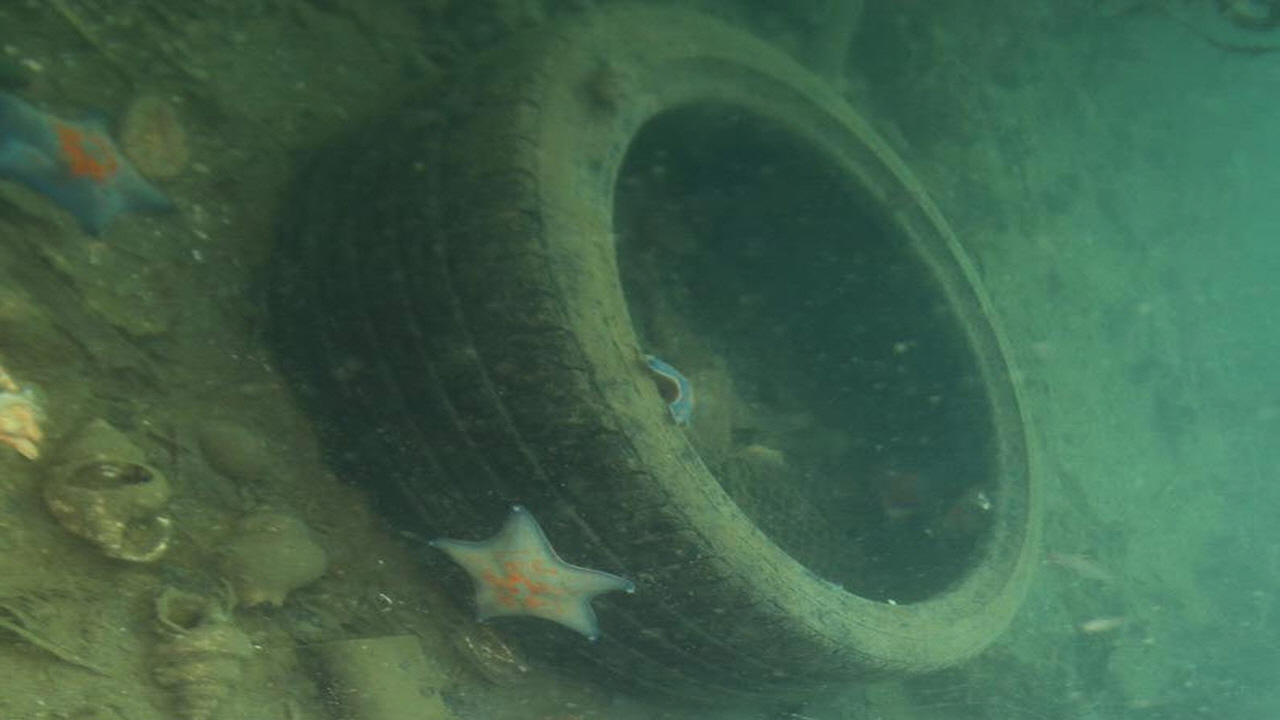tire: (287, 4, 1047, 704)
